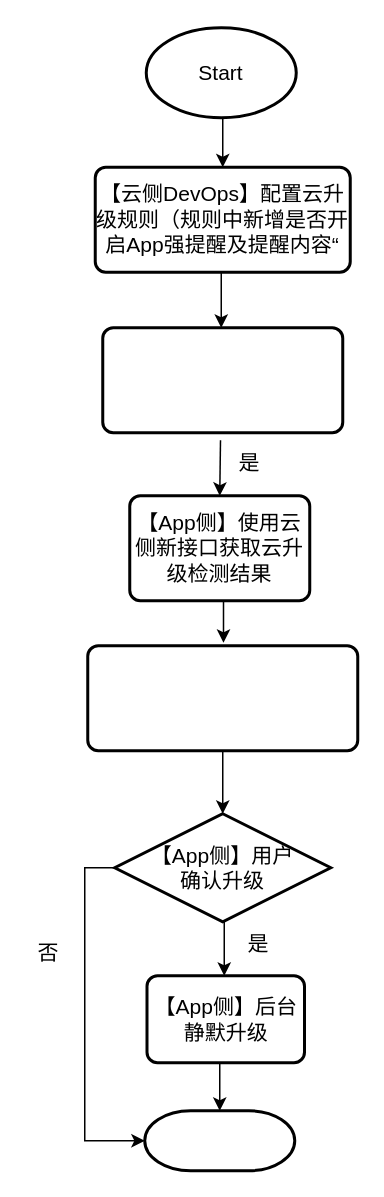
Some shapes in this 384 by 1197 pixel diagram are drawn without their labels. Each missing label, with the box of its shape:
End: (142, 1108, 296, 1172)
【App侧】根据云升级检测结果中相应的强提醒设置以及App是否是重启或切换云账号场景，进行相应强提醒: (86, 644, 358, 752)
【App侧】获取设备信息（/LAPI/V1.0/System/ Device/DeviceInfo）: (100, 326, 344, 434)
